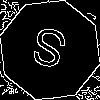S: (25, 25, 71, 79)
